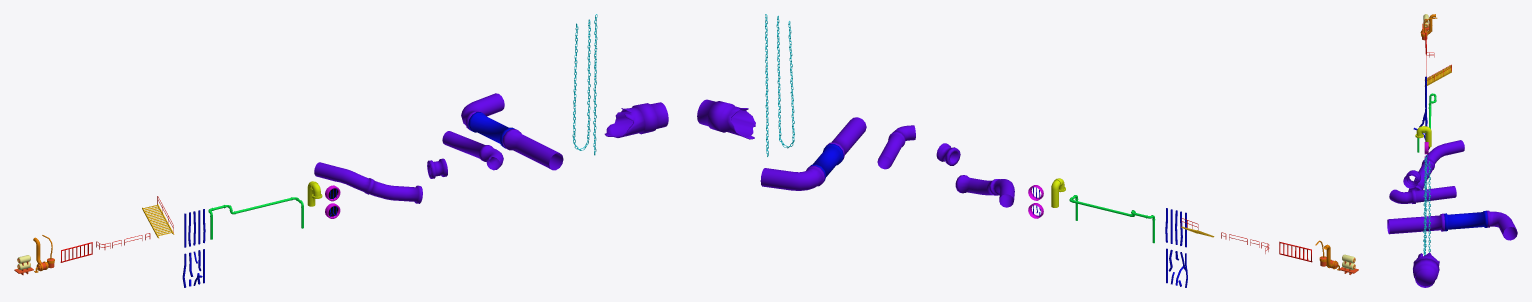
Rendered from Pack_2.fbx.
The picture shows the model from 3 angles, left to right: view 1: azimuth 30°, elevation 25°; view 2: azimuth 150°, elevation 25°; view 3: azimuth 270°, elevation 25°; orthographic projection. The views are drawn at different scales.
Visible parts, largest first — view 1: Cano_Grande_Level, Cano_quest_02.001, Cano_03, Cano_quest_01, Cano_quest_02.002, Torus, escada1.001, Cano_01, Grade_02, Grade_02.002; view 2: Cano_quest_02.001, Cano_03, Cano_Grande_Level, Cano_quest_01, Torus, Cano_quest_02.002, Cano_01, Grade_02; view 3: Cano_quest_02.001, Cano_Grande_Level, Cano_quest_01, Cano_03, Cano_quest_02.002, Torus, Cano_02, escada1.001, Torus.001, Maquinario_01, Cano_01, Grade_02.002 (+1 smaller).
Part boxes in pixels (bbox=[...]): Cano_Grande_Level: bbox=[314, 158, 447, 203]; Cano_quest_02.001: bbox=[461, 93, 563, 170]; Cano_03: bbox=[604, 102, 668, 137]; Cano_quest_01: bbox=[442, 131, 503, 170]; Cano_quest_02.002: bbox=[468, 112, 514, 148]; Torus: bbox=[572, 19, 590, 150]; escada1.001: bbox=[142, 204, 174, 238]; Cano_01: bbox=[208, 197, 303, 239]; Grade_02: bbox=[184, 209, 205, 247]; Grade_02.002: bbox=[182, 249, 204, 287]; Cano_quest_02.001: bbox=[760, 117, 866, 190]; Cano_03: bbox=[697, 99, 755, 139]; Cano_Grande_Level: bbox=[936, 143, 1014, 207]; Cano_quest_01: bbox=[877, 125, 915, 169]; Torus: bbox=[776, 15, 794, 148]; Cano_quest_02.002: bbox=[807, 144, 843, 181]; Cano_01: bbox=[1069, 195, 1155, 243]; Grade_02: bbox=[1165, 208, 1186, 247]; Cano_quest_02.001: bbox=[1387, 210, 1517, 240]; Cano_Grande_Level: bbox=[1403, 140, 1464, 191]; Cano_quest_01: bbox=[1389, 186, 1456, 203]; Cano_03: bbox=[1413, 252, 1439, 287]; Cano_quest_02.002: bbox=[1444, 211, 1487, 231]; Torus: bbox=[1423, 155, 1427, 255]; Cano_02: bbox=[1415, 126, 1431, 147]; escada1.001: bbox=[1424, 65, 1451, 86]; Torus.001: bbox=[1428, 161, 1430, 252]; Maquinario_01: bbox=[1420, 14, 1437, 40]; Cano_01: bbox=[1417, 93, 1436, 152]; Grade_02.002: bbox=[1413, 111, 1427, 141].
Size of the model in its own units: 22132 by 5618 by 4791.
